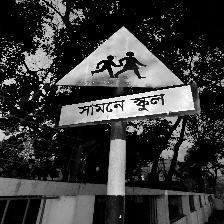School-in-front: (52, 26, 198, 128)
